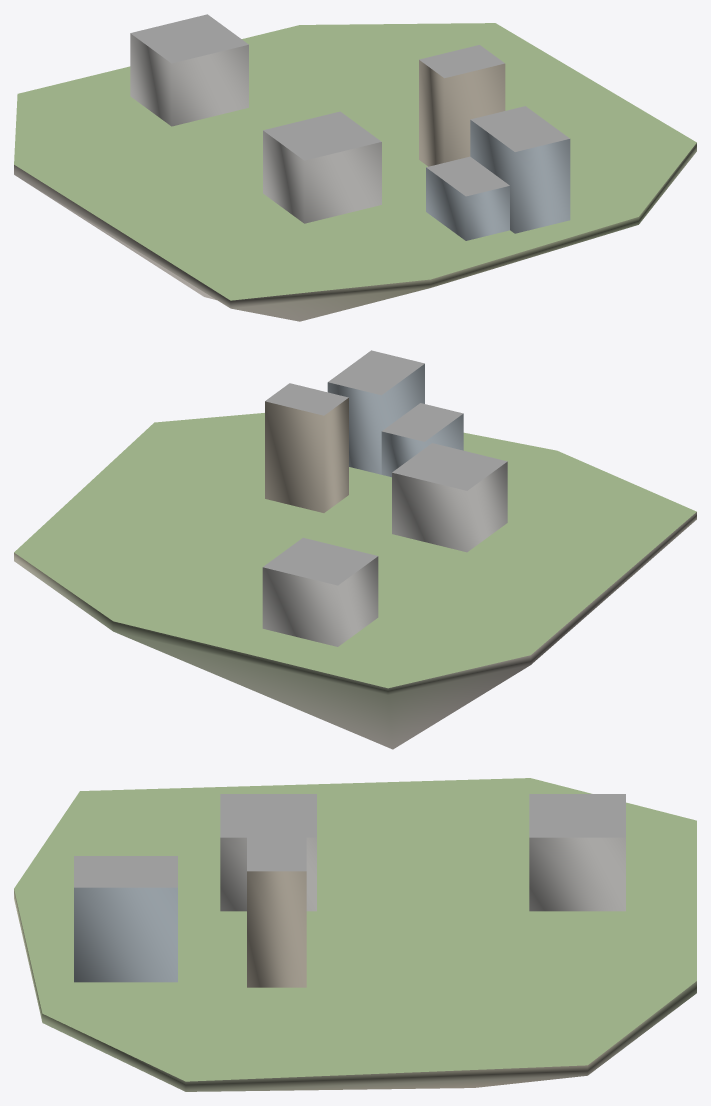
File: SKY-083.lod2.glb
The picture shows the model from 3 angles, top to bottom: view 1: azimuth 30°, elevation 25°; view 2: azimuth 150°, elevation 25°; view 3: azimuth 270°, elevation 25°; orthographic projection. The views are drawn at different scales.
Parts seen in each view (by area): view 1: deck, buildings, rock; view 2: deck, buildings, rock; view 3: deck, buildings, rock.
Part boxes in pixels (bbox=[...]): deck: bbox=[14, 23, 696, 300]; buildings: bbox=[130, 14, 570, 240]; rock: bbox=[14, 143, 696, 321]; deck: bbox=[14, 413, 696, 688]; buildings: bbox=[262, 350, 507, 646]; rock: bbox=[14, 512, 696, 749]; deck: bbox=[14, 778, 696, 1081]; buildings: bbox=[74, 794, 625, 987]; rock: bbox=[14, 889, 696, 1091].
Bounding box in the file's own units: 96.73 × 44.12 × 91.95.
